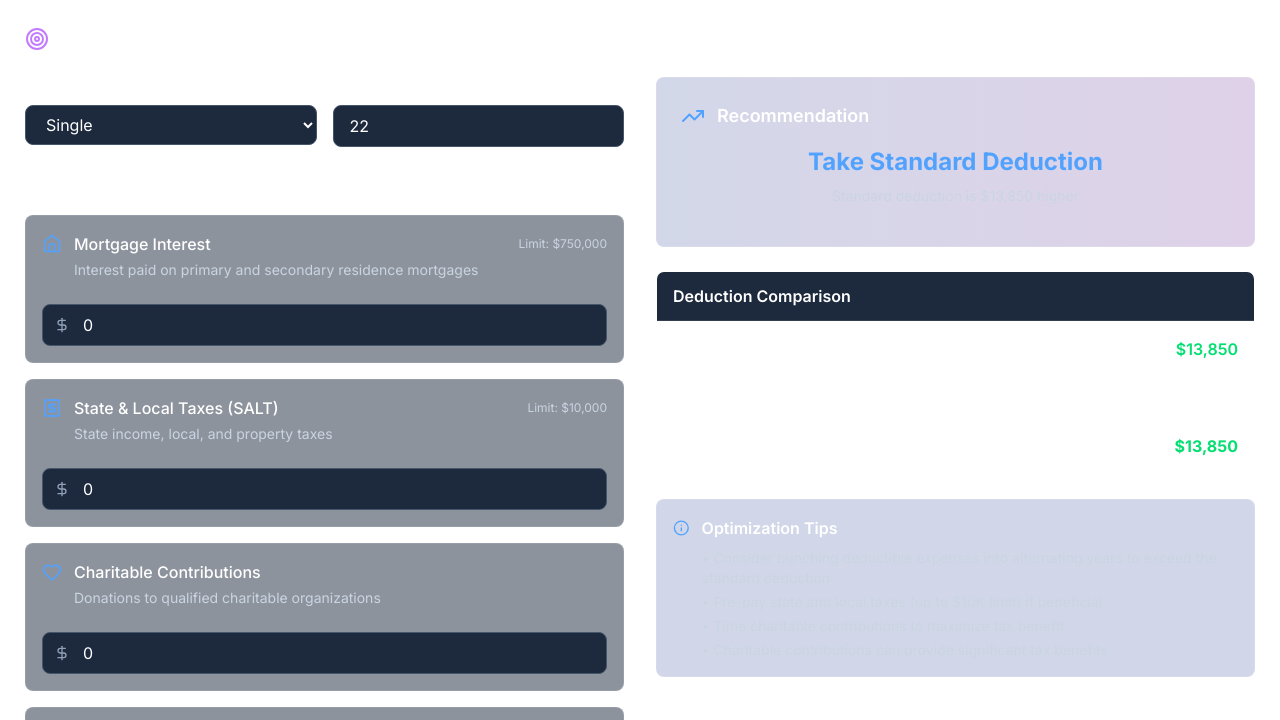
DeductionOptimizer › handles edge cases for very high deductions
The width and height of the screenshot is (1280, 720).
Type "50000" into the 4th number field showing "0" at (324, 653), box [42,632,607,674]
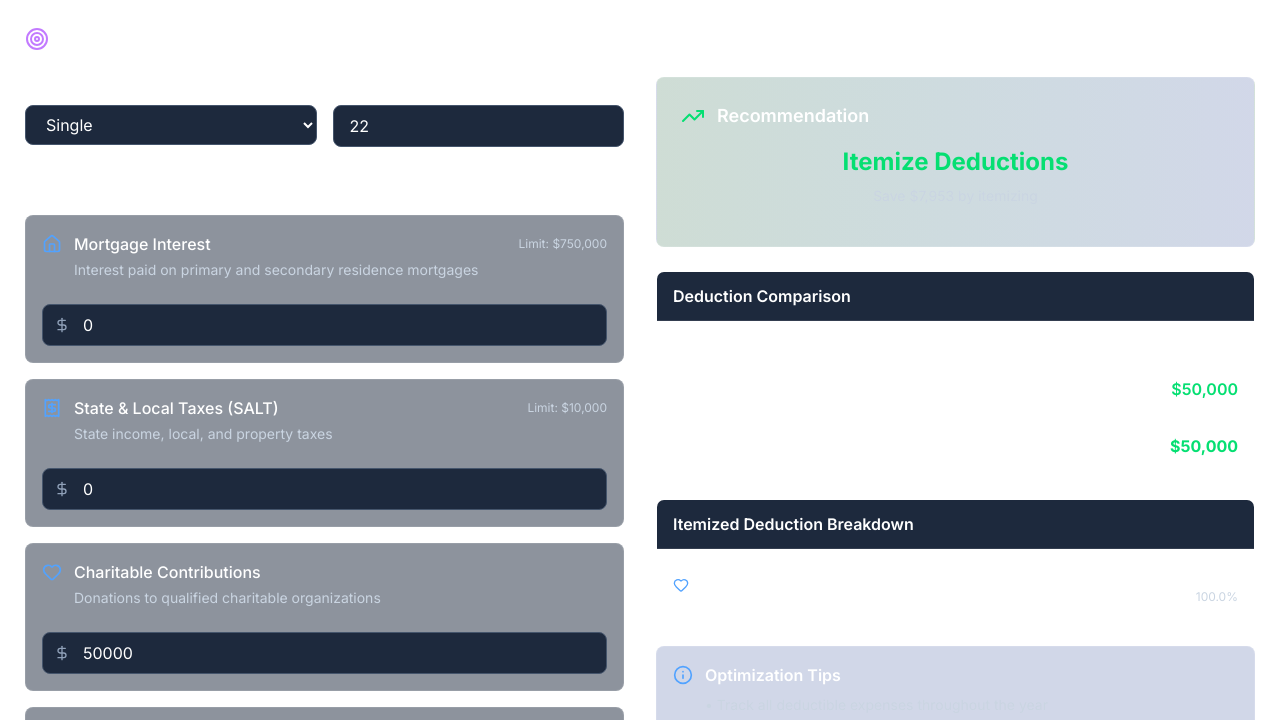
Expected: the text "Itemize Deductions" is shown, [843,147,1068,176]
